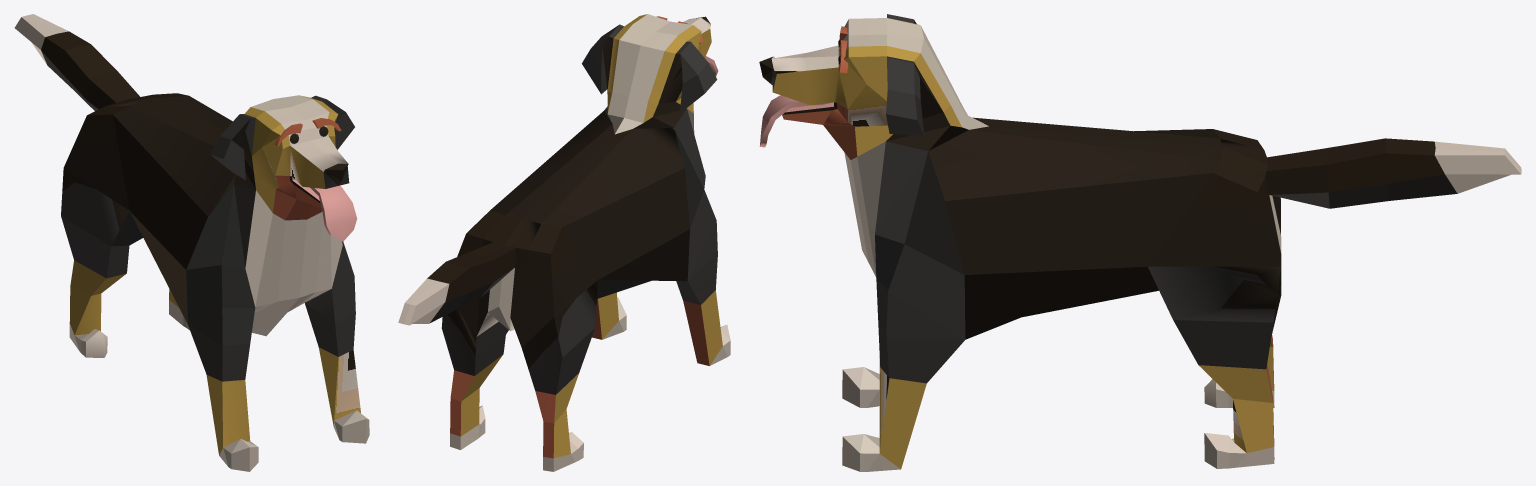
File: 4ioK8LxVtuP.glb
3 renders of one model, left to right at view 1: azimuth 30°, elevation 25°; view 2: azimuth 150°, elevation 25°; view 3: azimuth 270°, elevation 25°, orthographic. The views are drawn at different scales.
Visible parts, largest first — view 1: Dog1; view 2: Dog1; view 3: Dog1.
Part boxes in pixels (box(x1,y1,x2,y2)): Dog1: box(14, 14, 369, 471); Dog1: box(398, 14, 730, 471); Dog1: box(759, 14, 1521, 471).
Size of the model in its own units: 0.4312 by 1 by 1.72.
1 material, 1 textured.
